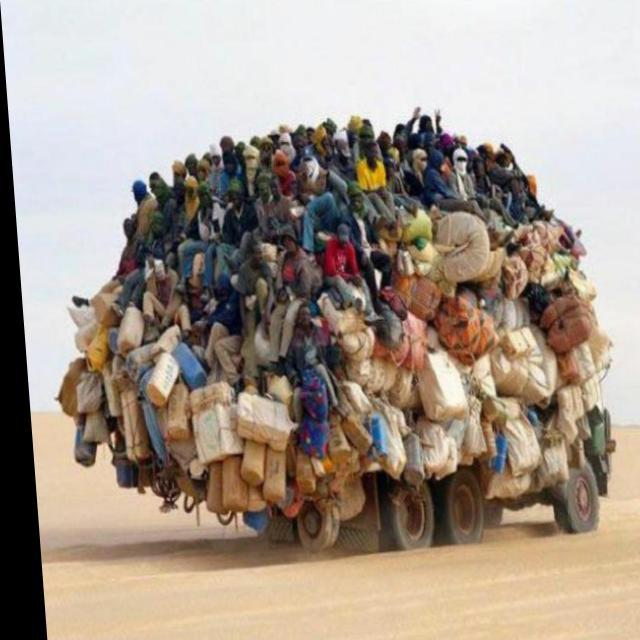uncovered: (26, 53, 639, 564)
